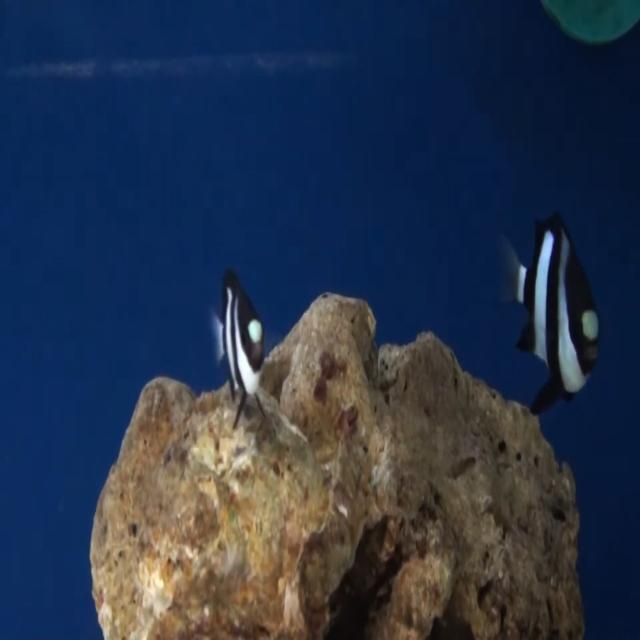ThreeStripedDamselfish: (498, 212, 601, 416), (213, 270, 265, 395)
